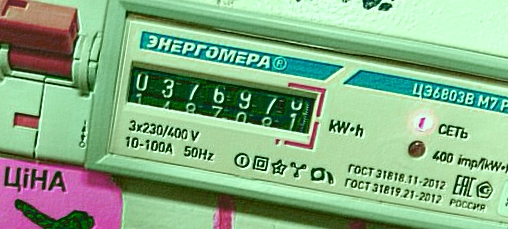0: (133, 68, 150, 92)
1: (286, 110, 300, 132)
3: (160, 76, 177, 99)
6: (211, 80, 229, 105)
7: (185, 77, 203, 103), (262, 91, 280, 116)
9: (236, 86, 254, 110)
screen: (114, 46, 332, 154)
